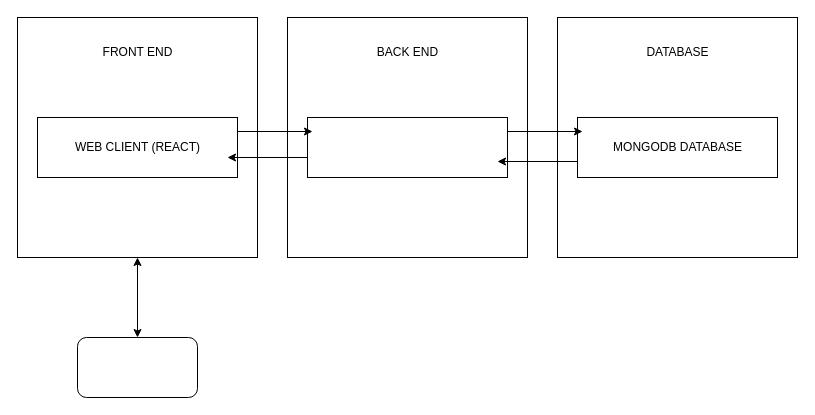
Some shapes in this 815 by 415 pixel diagram are drawn without their labels. The shapes that lost their labels are listed below. From the top down, each one's box as (x1, y1, x2, y2) in pixels, then its label:
(306, 116, 508, 178): EXPRESSJS API
(76, 336, 198, 398): POKEAPI
